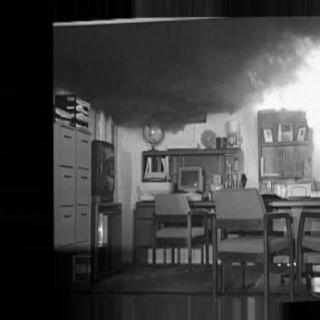Fire: (242, 30, 318, 111)
